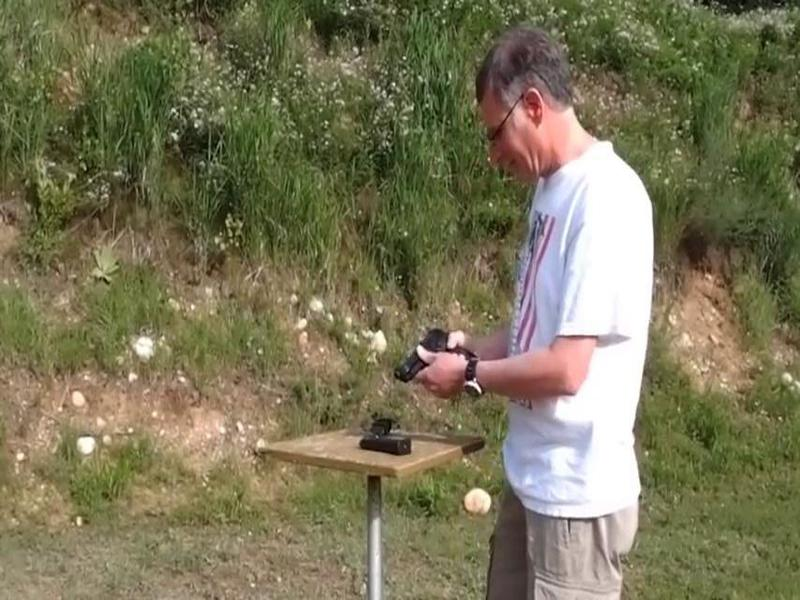Pistola: (391, 314, 467, 391)
